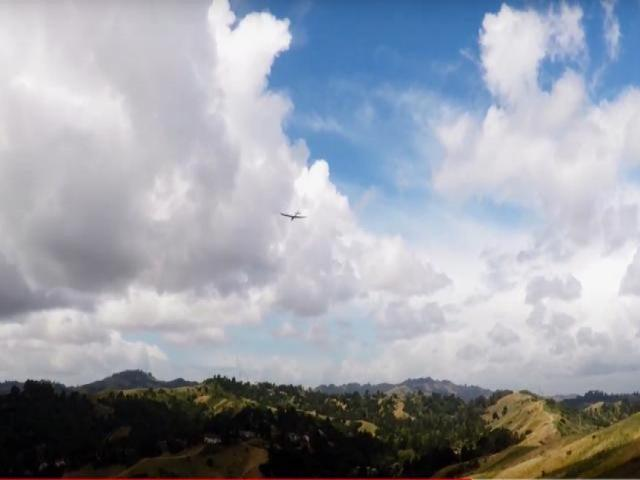iha: (280, 202, 308, 225)
